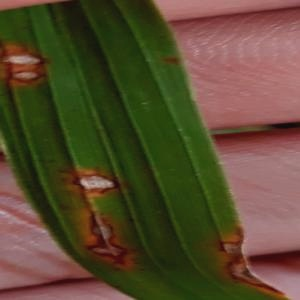Brown_Spot: (54, 149, 126, 203), (228, 260, 288, 300), (209, 218, 254, 264), (68, 211, 121, 242), (88, 240, 136, 269), (1, 45, 52, 71), (6, 69, 51, 89)
